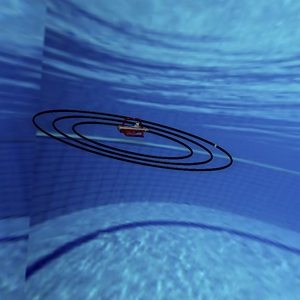circle: (19, 97, 254, 190)
submarine: (114, 110, 151, 150)
